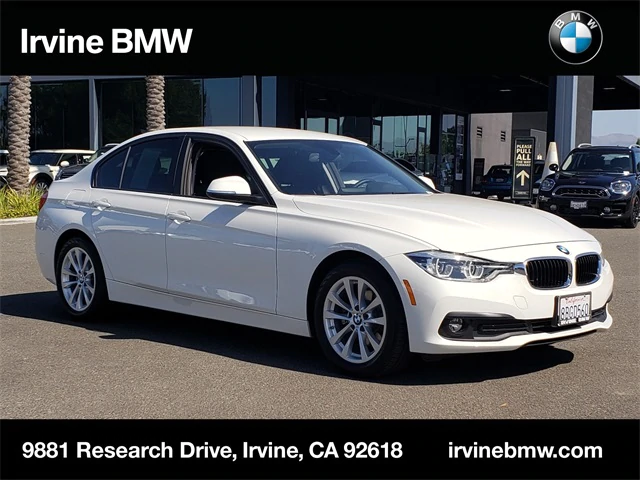bmw: (26, 126, 622, 373)
